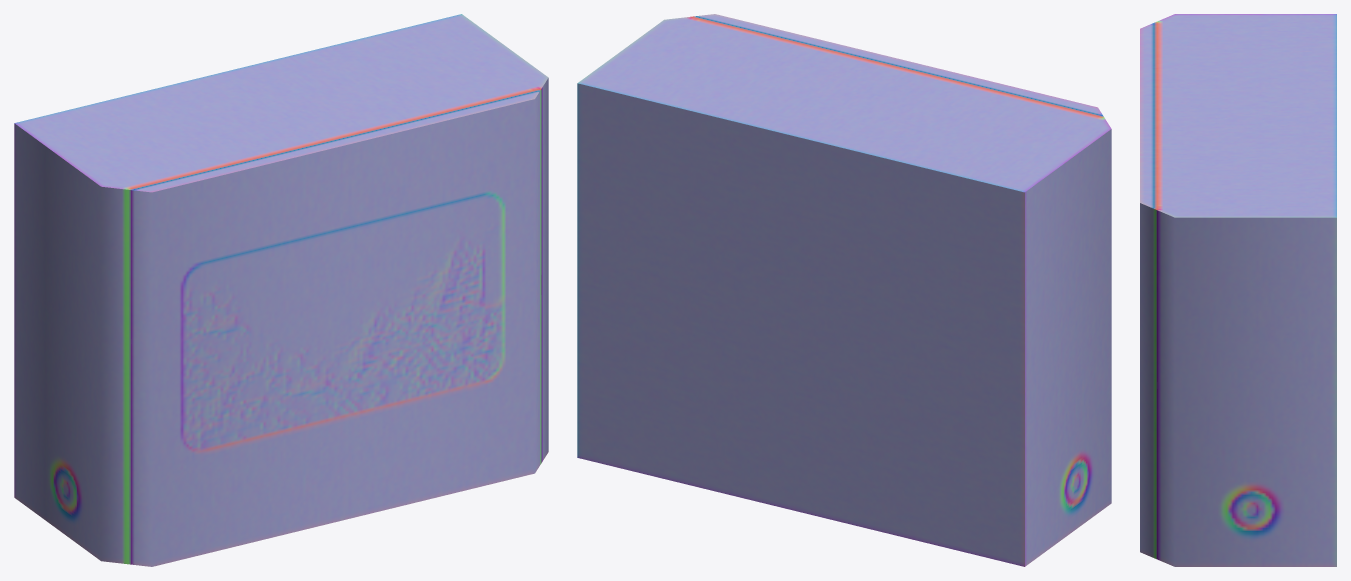
Rendered from LitElectricBoxA3.fbx.
3 views of the same model, side by side, from view 1: azimuth 30°, elevation 25°; view 2: azimuth 150°, elevation 25°; view 3: azimuth 270°, elevation 25° (orthographic). The views are drawn at different scales.
Parts seen in each view (by area): view 1: LitElectricBoxA3; view 2: LitElectricBoxA3; view 3: LitElectricBoxA3.
Part boxes in pixels (<box>): LitElectricBoxA3: <box>14,14,548,566</box>; LitElectricBoxA3: <box>577,14,1111,566</box>; LitElectricBoxA3: <box>1140,14,1336,566</box>.
Size of the model in its own units: 29.4 by 23.51 by 12.
1 material, 1 textured.
